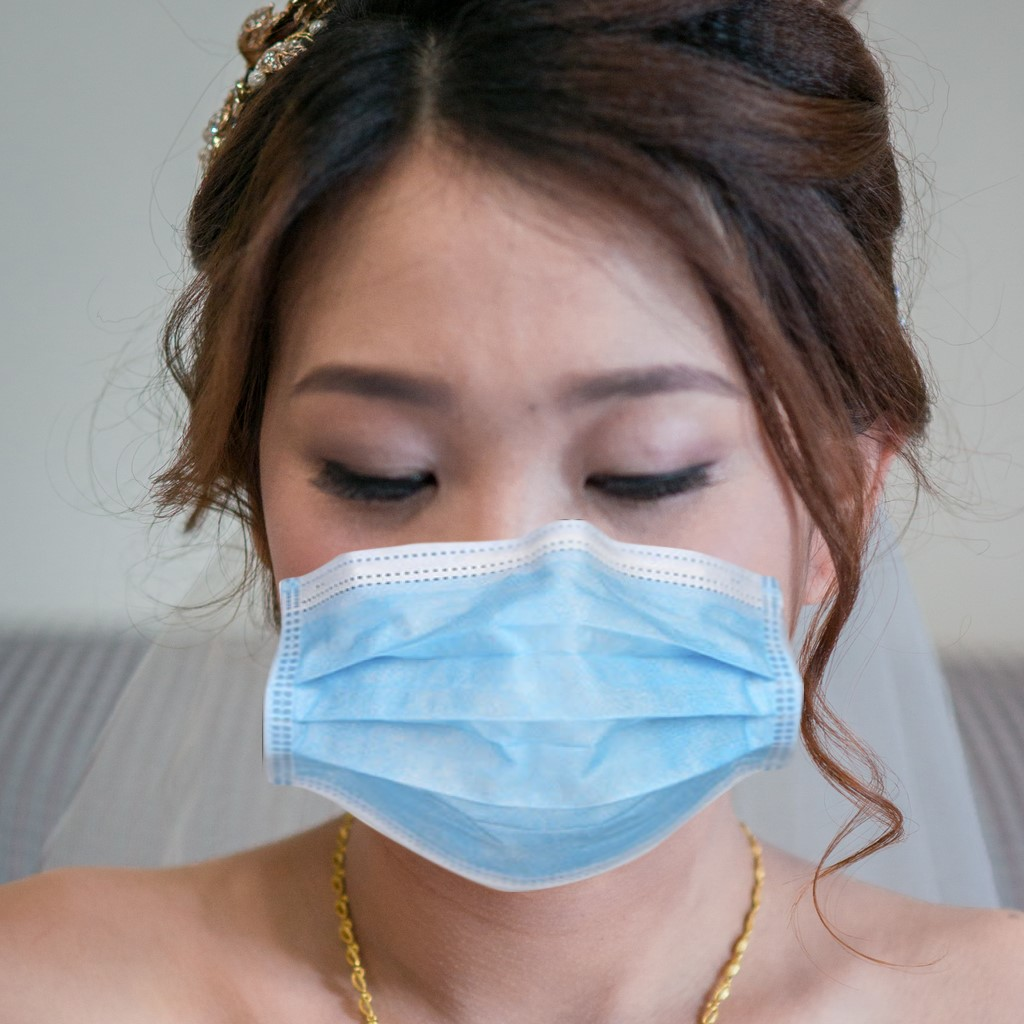con_mascara: (221, 121, 809, 856)
